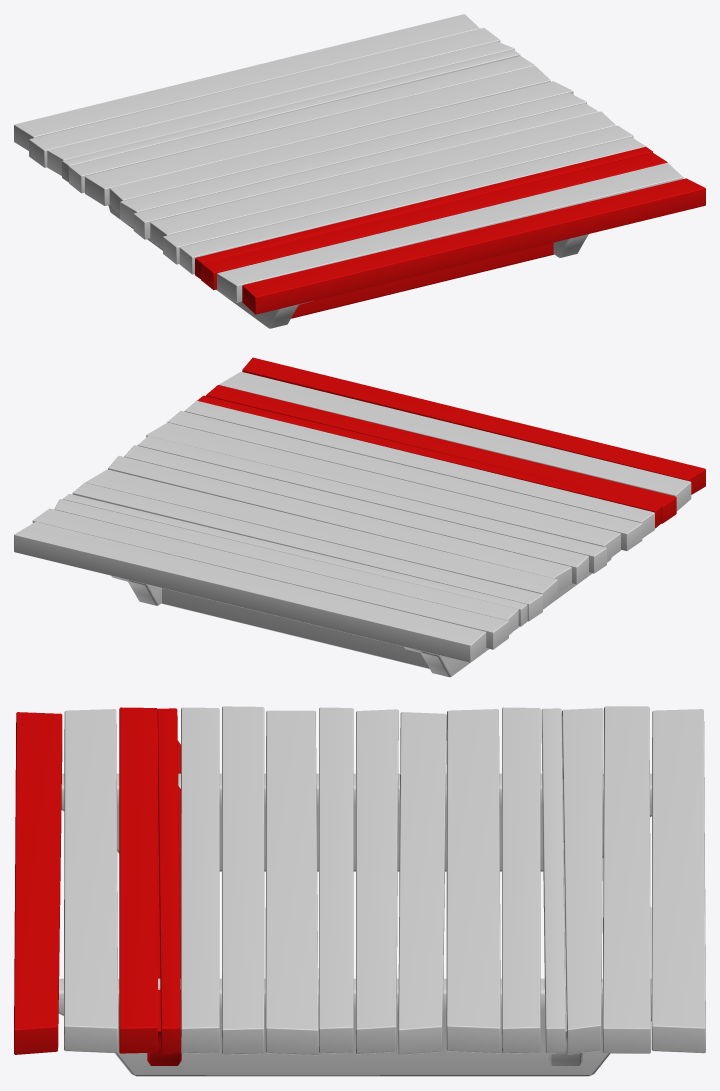
File: SM_WoodlandHouse_01_Platform.fbx
3 renders of one model, top to bottom at view 1: azimuth 30°, elevation 25°; view 2: azimuth 150°, elevation 25°; view 3: azimuth 270°, elevation 25°, orthographic. The views are drawn at different scales.
Visible parts, largest first — view 1: SM_House_Platform_01.mo; view 2: SM_House_Platform_01.mo; view 3: SM_House_Platform_01.mo.
Part boxes in pixels (x1,y1,x2,y2): SM_House_Platform_01.mo: [14, 14, 705, 328]; SM_House_Platform_01.mo: [14, 357, 705, 677]; SM_House_Platform_01.mo: [14, 706, 705, 1076].
Size of the model in its own units: 1128 by 178 by 1019.
